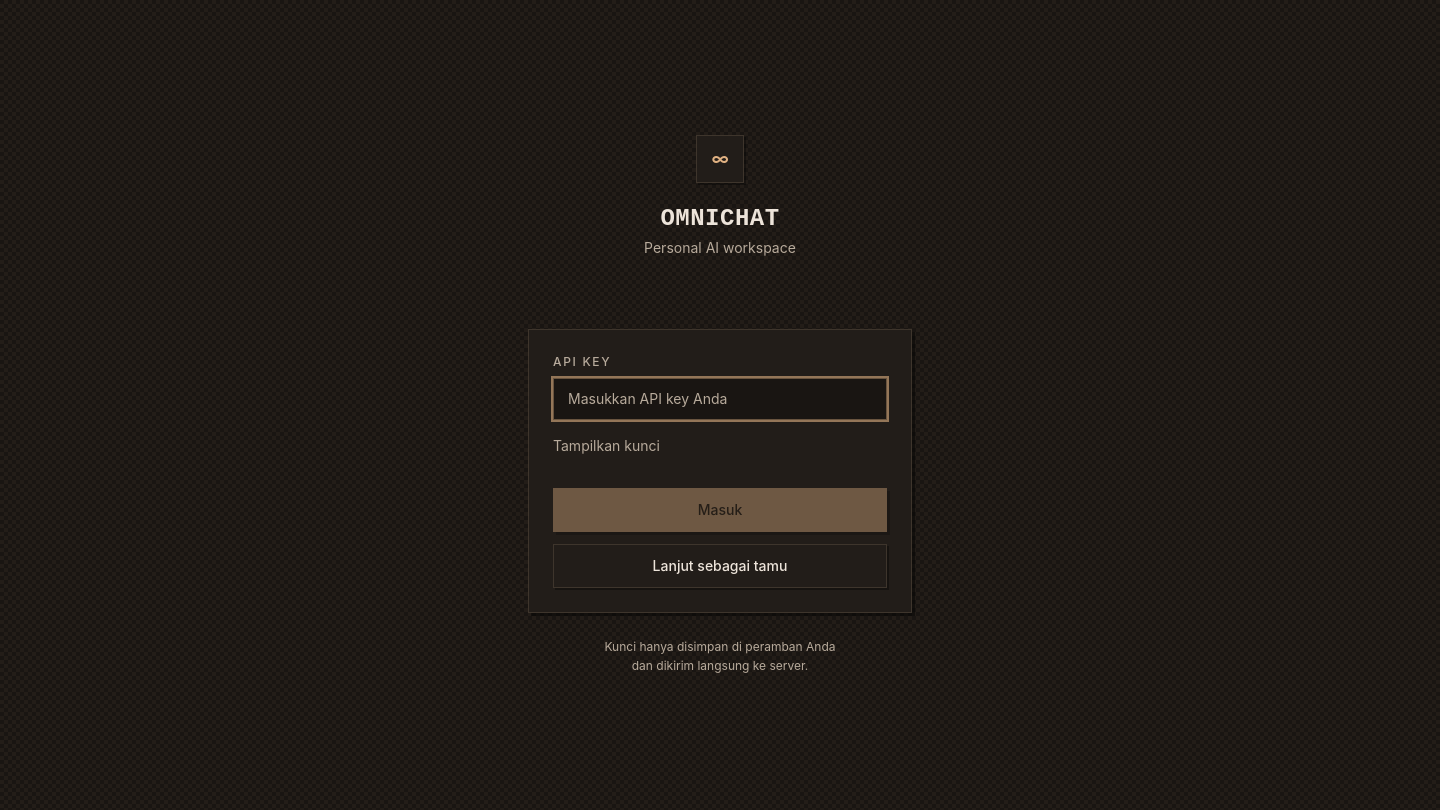
Test: App › guest entry shows a sidebarless workspace with a logout button
# Login screen → guest entry
Click the button "Lanjut sebagai tamu" at (720, 566), box [553,544,887,588]
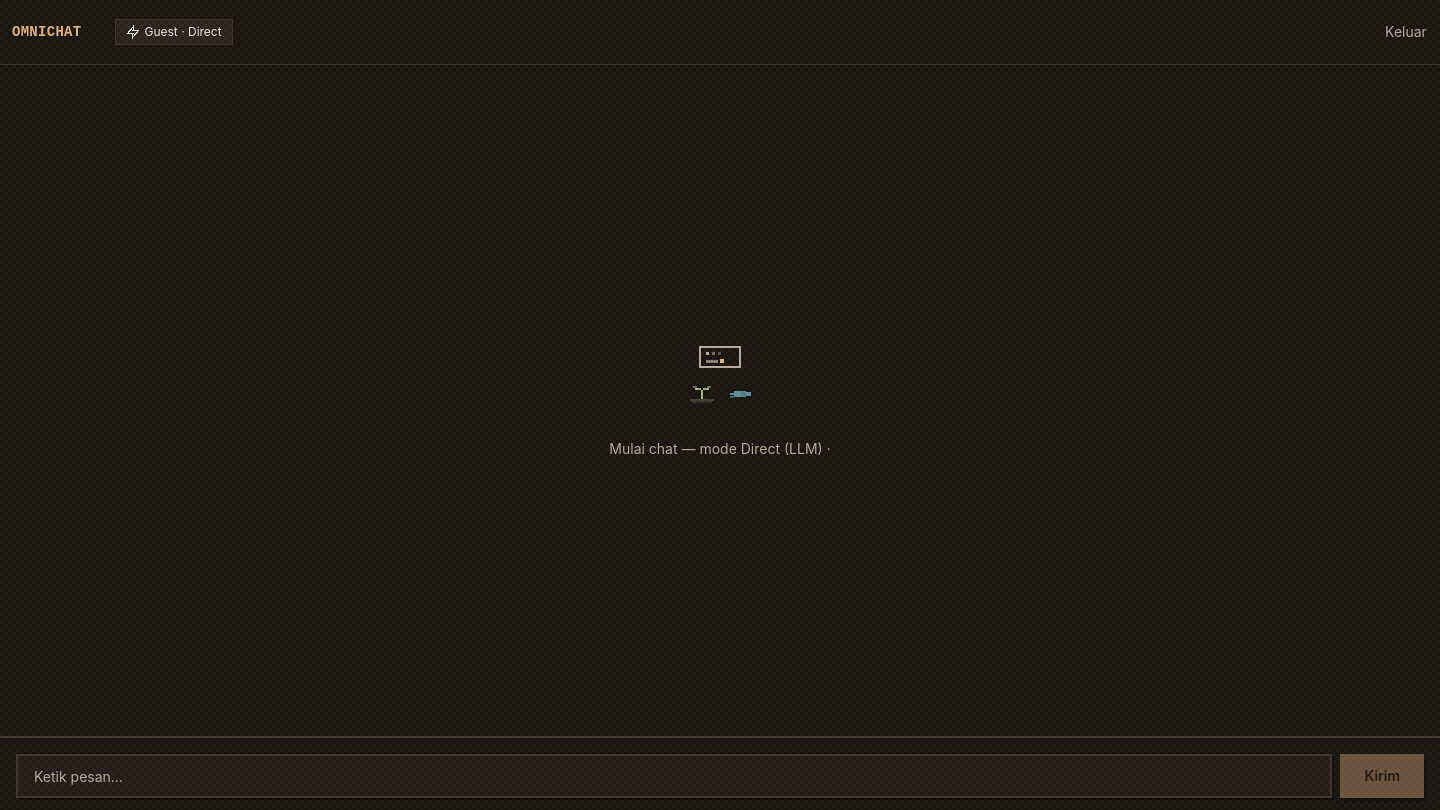
Check: the button "Keluar" is shown, box [1384,10,1428,54]
